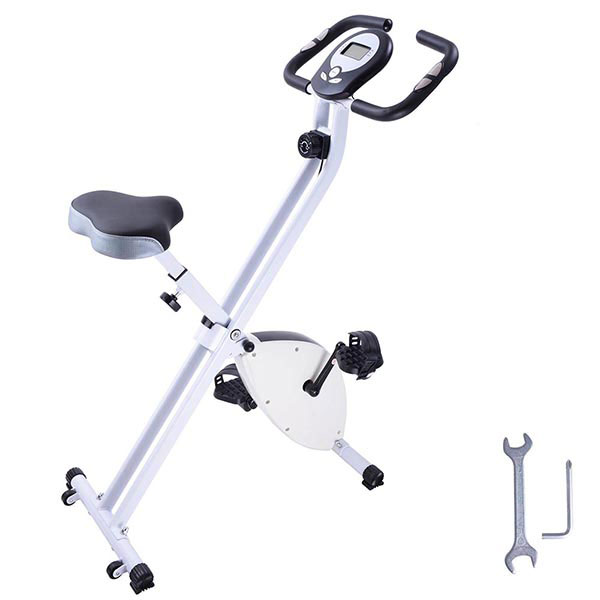gym_bike: (58, 18, 456, 581)
